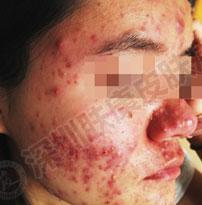fore: (175, 18, 190, 33), (49, 82, 63, 97), (129, 137, 141, 154), (65, 155, 77, 169), (103, 178, 117, 188), (51, 135, 65, 145), (112, 147, 124, 158), (86, 133, 99, 143), (157, 103, 167, 116), (158, 123, 168, 136), (160, 147, 173, 157), (111, 186, 121, 198), (97, 188, 109, 198), (80, 163, 93, 172), (62, 139, 73, 149), (54, 35, 65, 45), (89, 32, 100, 42), (63, 57, 73, 68), (75, 142, 85, 153), (104, 142, 116, 151), (153, 22, 162, 34), (107, 169, 120, 177), (80, 173, 90, 183), (49, 114, 59, 124), (54, 157, 64, 167), (115, 9, 126, 18), (136, 23, 147, 32), (70, 35, 81, 44), (148, 109, 157, 119), (37, 121, 47, 130), (33, 108, 43, 117), (41, 167, 50, 177), (92, 150, 101, 160), (84, 183, 93, 192), (62, 76, 71, 85), (42, 87, 51, 96), (71, 186, 81, 194), (85, 143, 91, 155), (58, 69, 67, 77), (49, 174, 58, 182), (55, 191, 64, 199), (36, 92, 44, 101), (172, 110, 180, 118), (162, 138, 170, 146), (71, 77, 79, 85), (65, 172, 73, 180), (105, 158, 112, 167), (57, 185, 65, 192), (61, 168, 68, 176), (72, 71, 80, 78), (72, 174, 79, 181), (100, 149, 107, 156), (98, 163, 104, 170), (63, 190, 69, 197), (80, 198, 86, 204)
